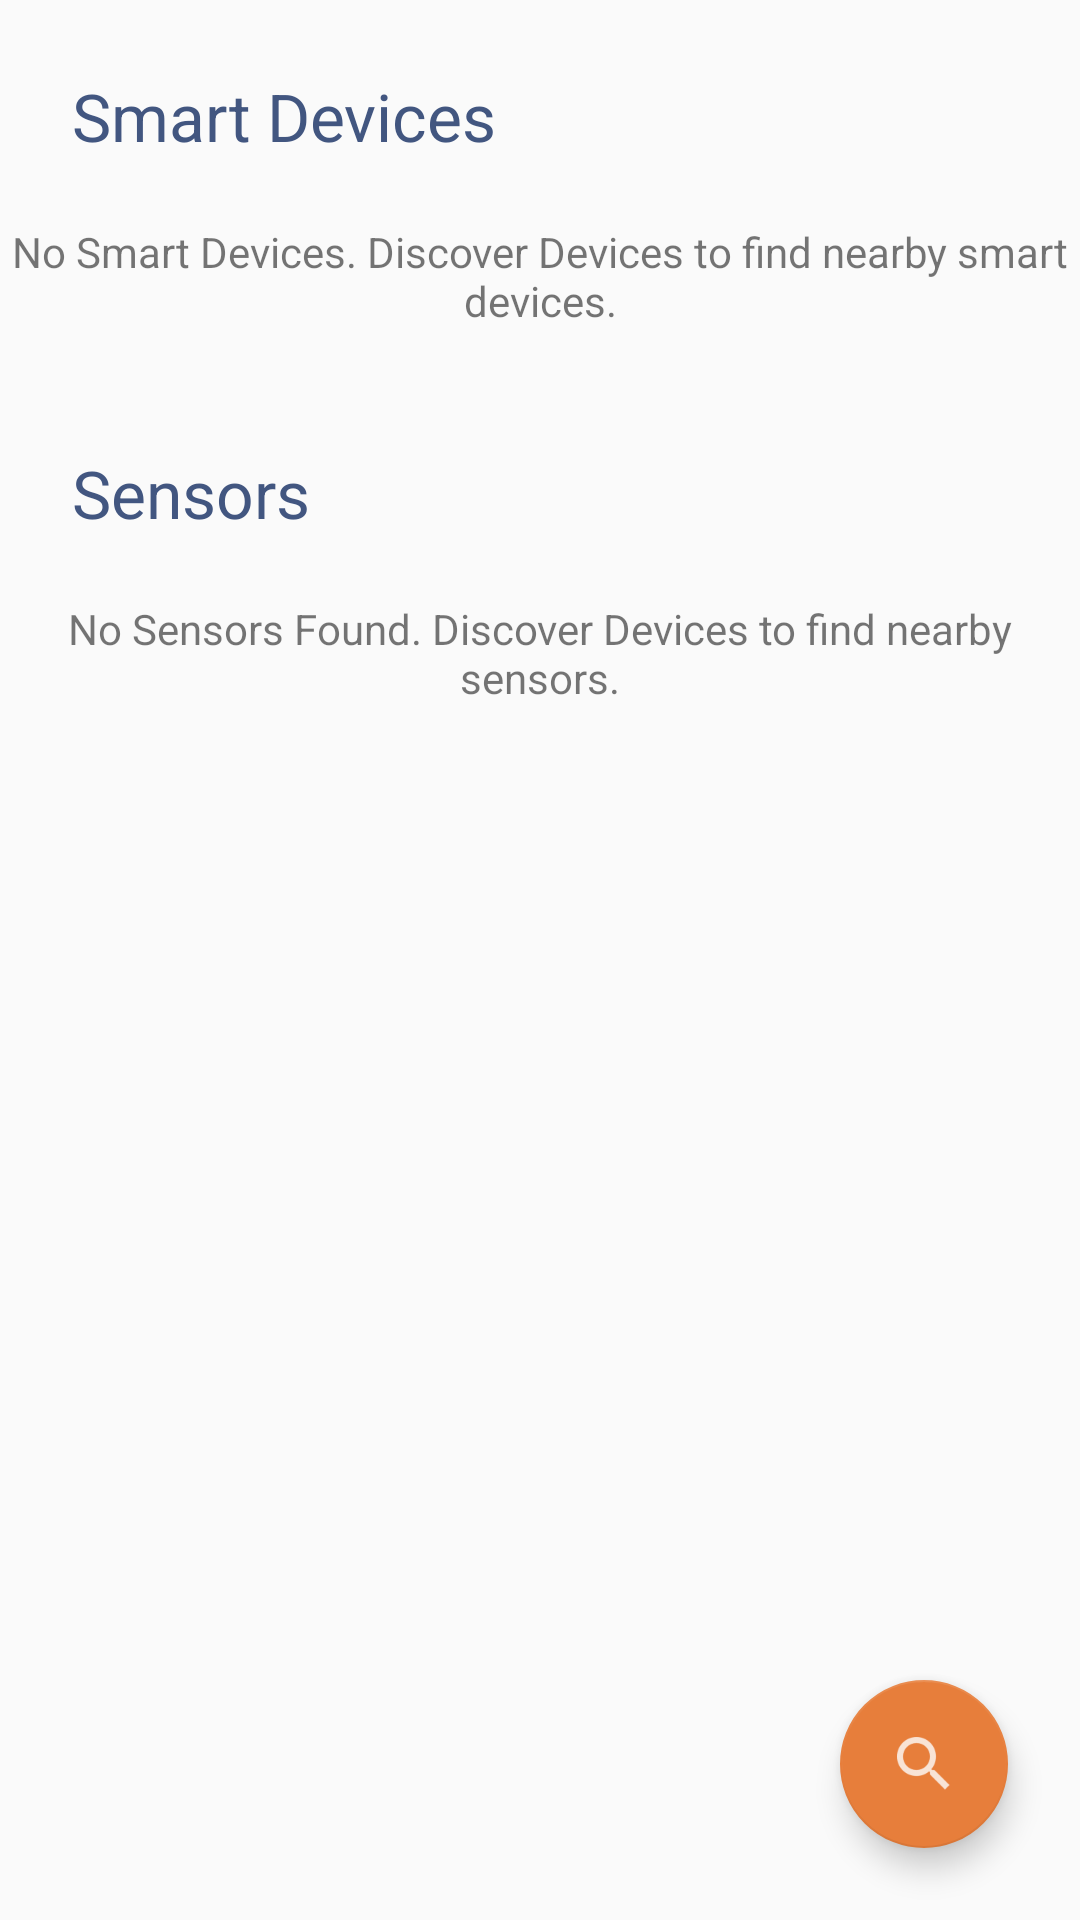

Icons on this 1080w x 1920h Android screen, each with the point to tap as (x,y):
discover: (924,1764)
